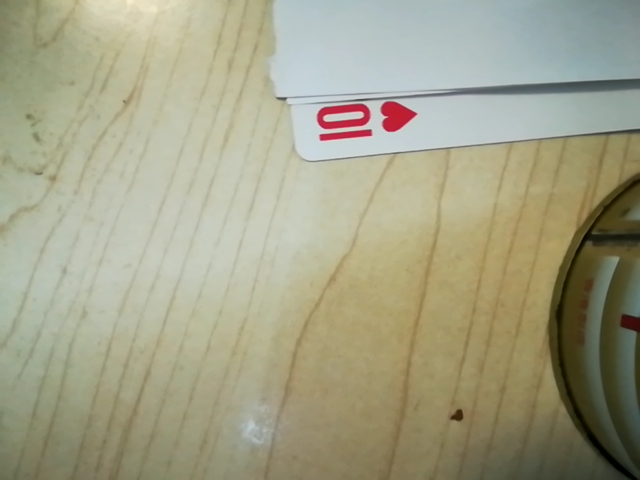hx 10: (305, 95, 406, 147)
